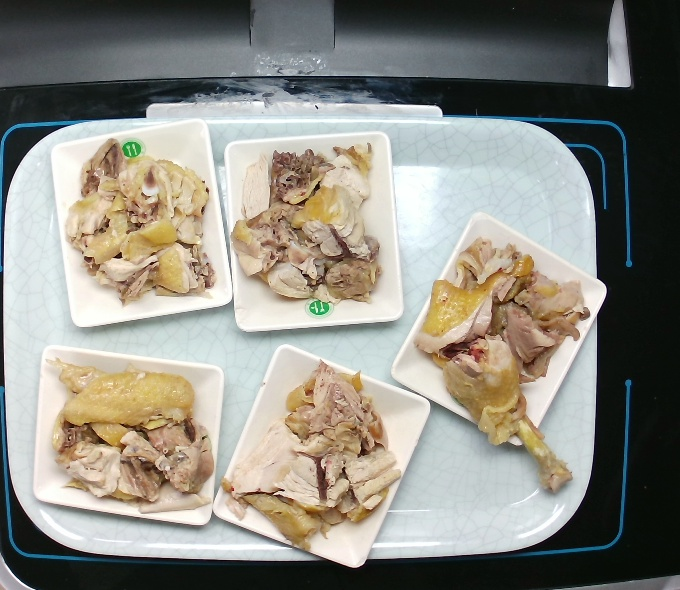wcq-BaiQieJi: (410, 231, 594, 494), (218, 362, 403, 552), (39, 359, 216, 519), (232, 142, 389, 307), (61, 142, 212, 307)
